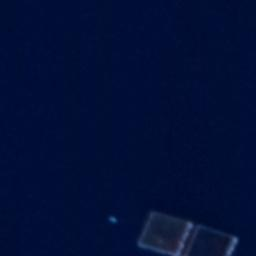square_cover: (134, 205, 196, 256), (181, 222, 242, 256)
